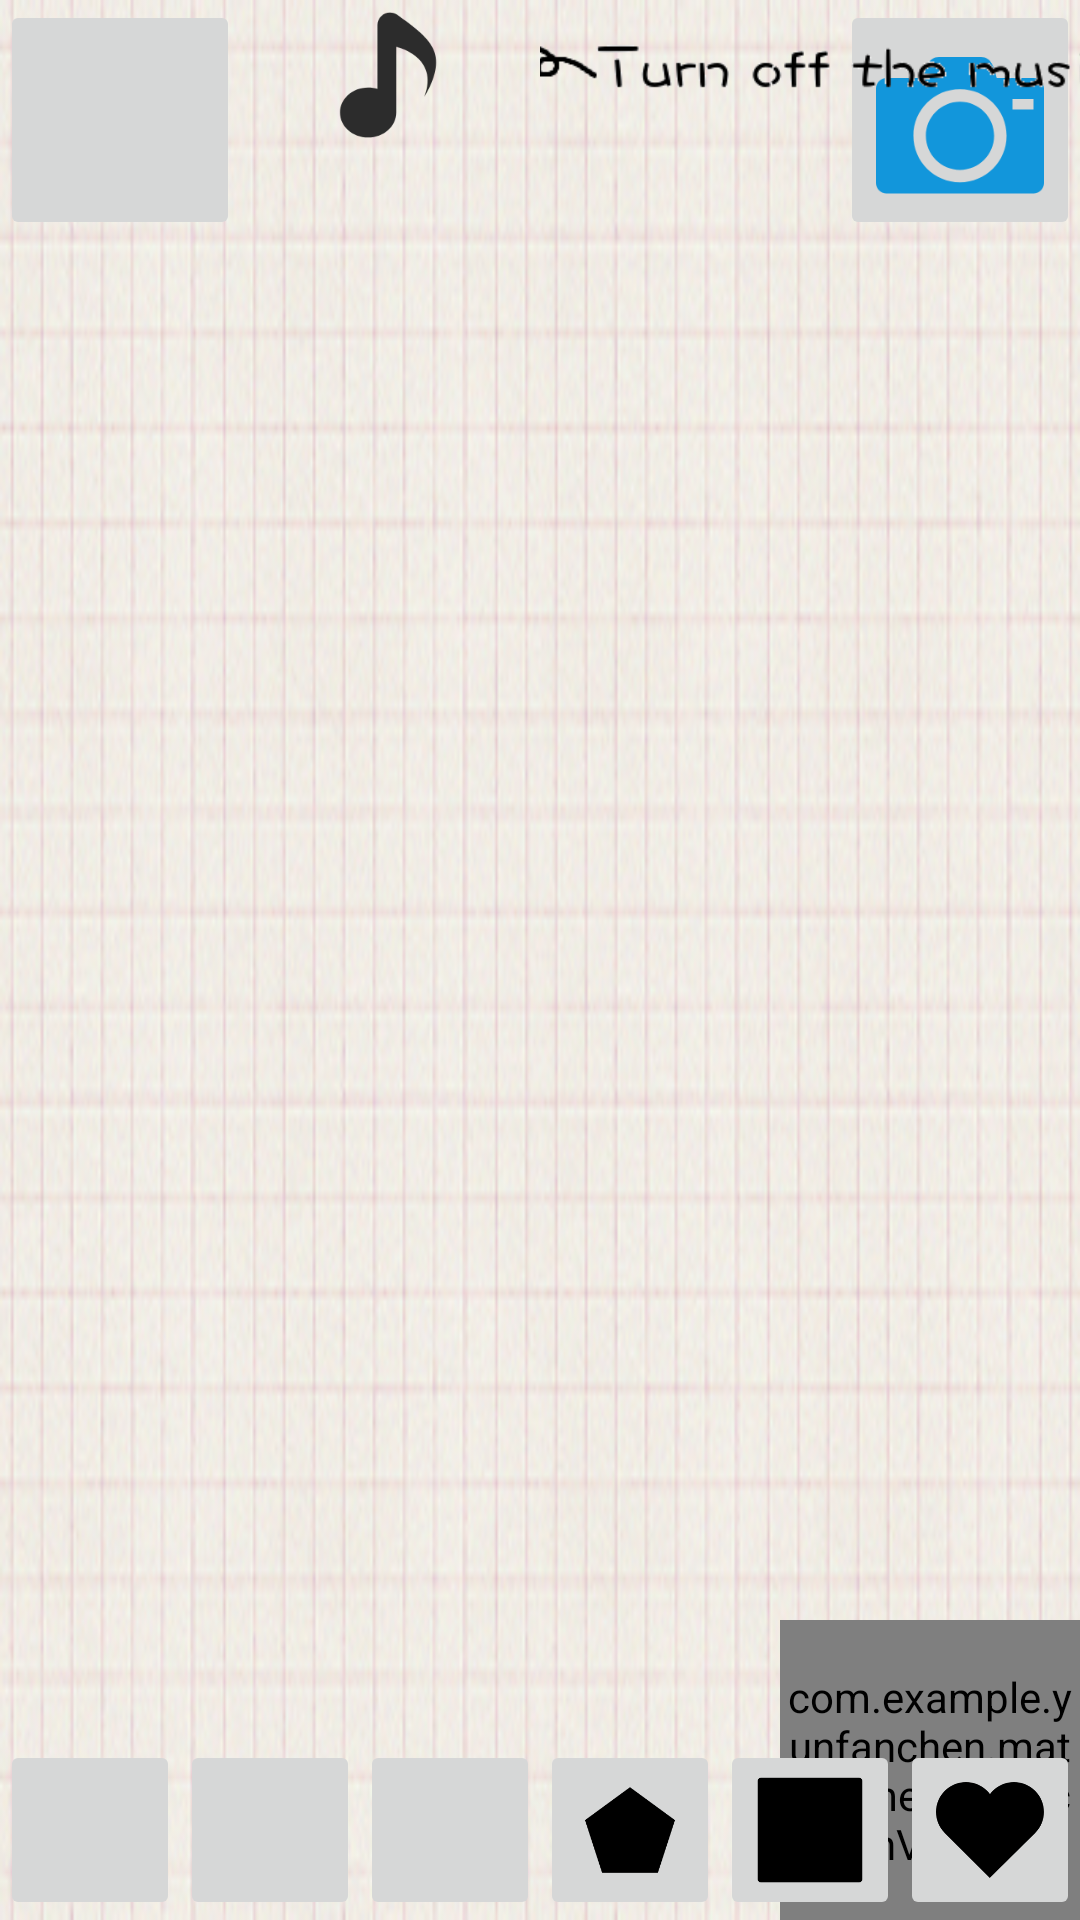

Icon click points for this 1080w x 1920h phone screenshot, format point (x, y):
heart: point (985, 1821)
musicon: point (391, 74)
pentagon: point (630, 1839)
square: point (810, 1830)
